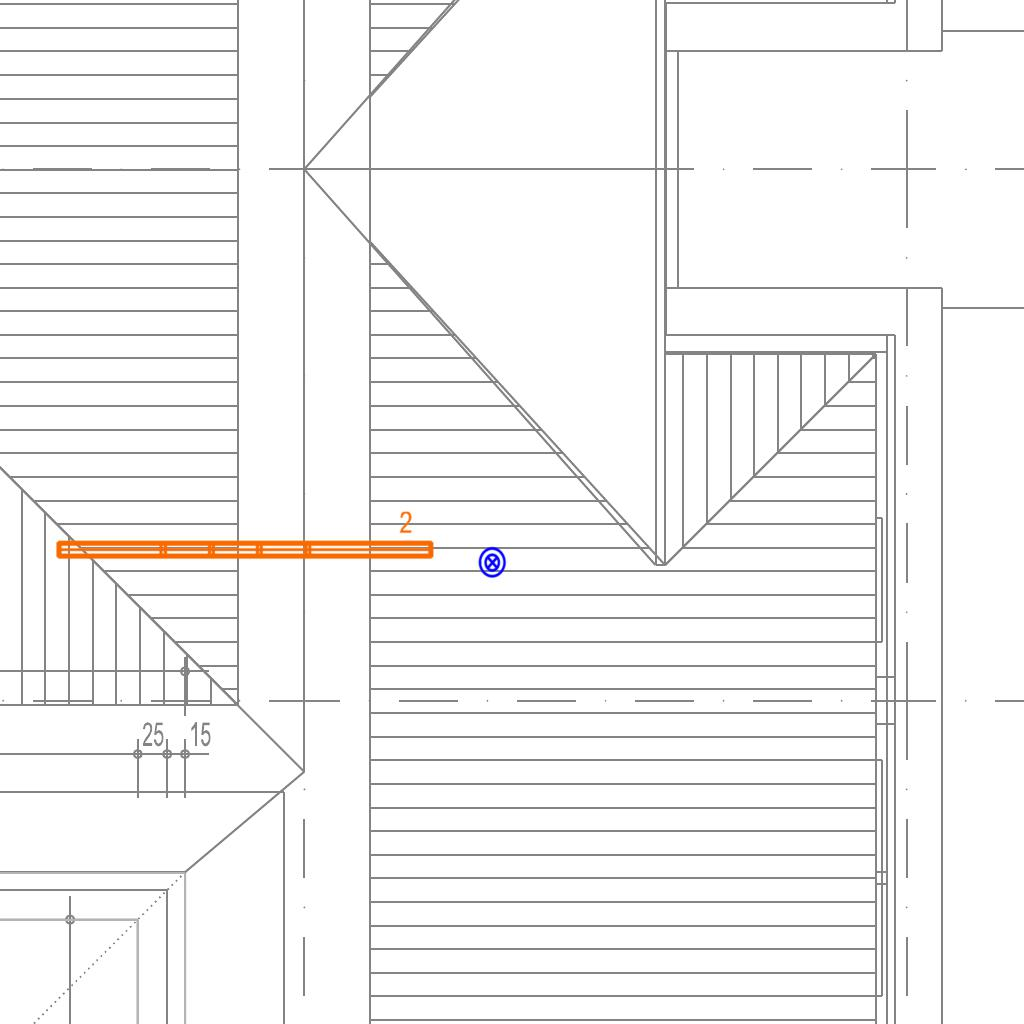Ambulanz_Pendelleuchte_LED: (51, 509, 438, 565)
Taster_beleuchtet: (476, 546, 509, 579)
